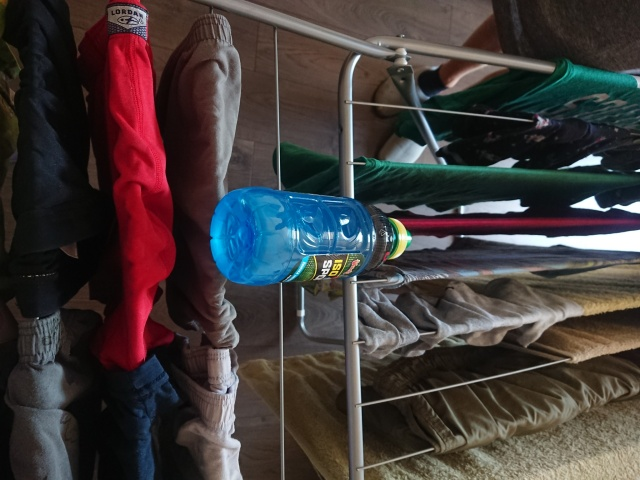Vindi Iso Sport Forest Strawberries 500mL: (206, 185, 415, 288)
